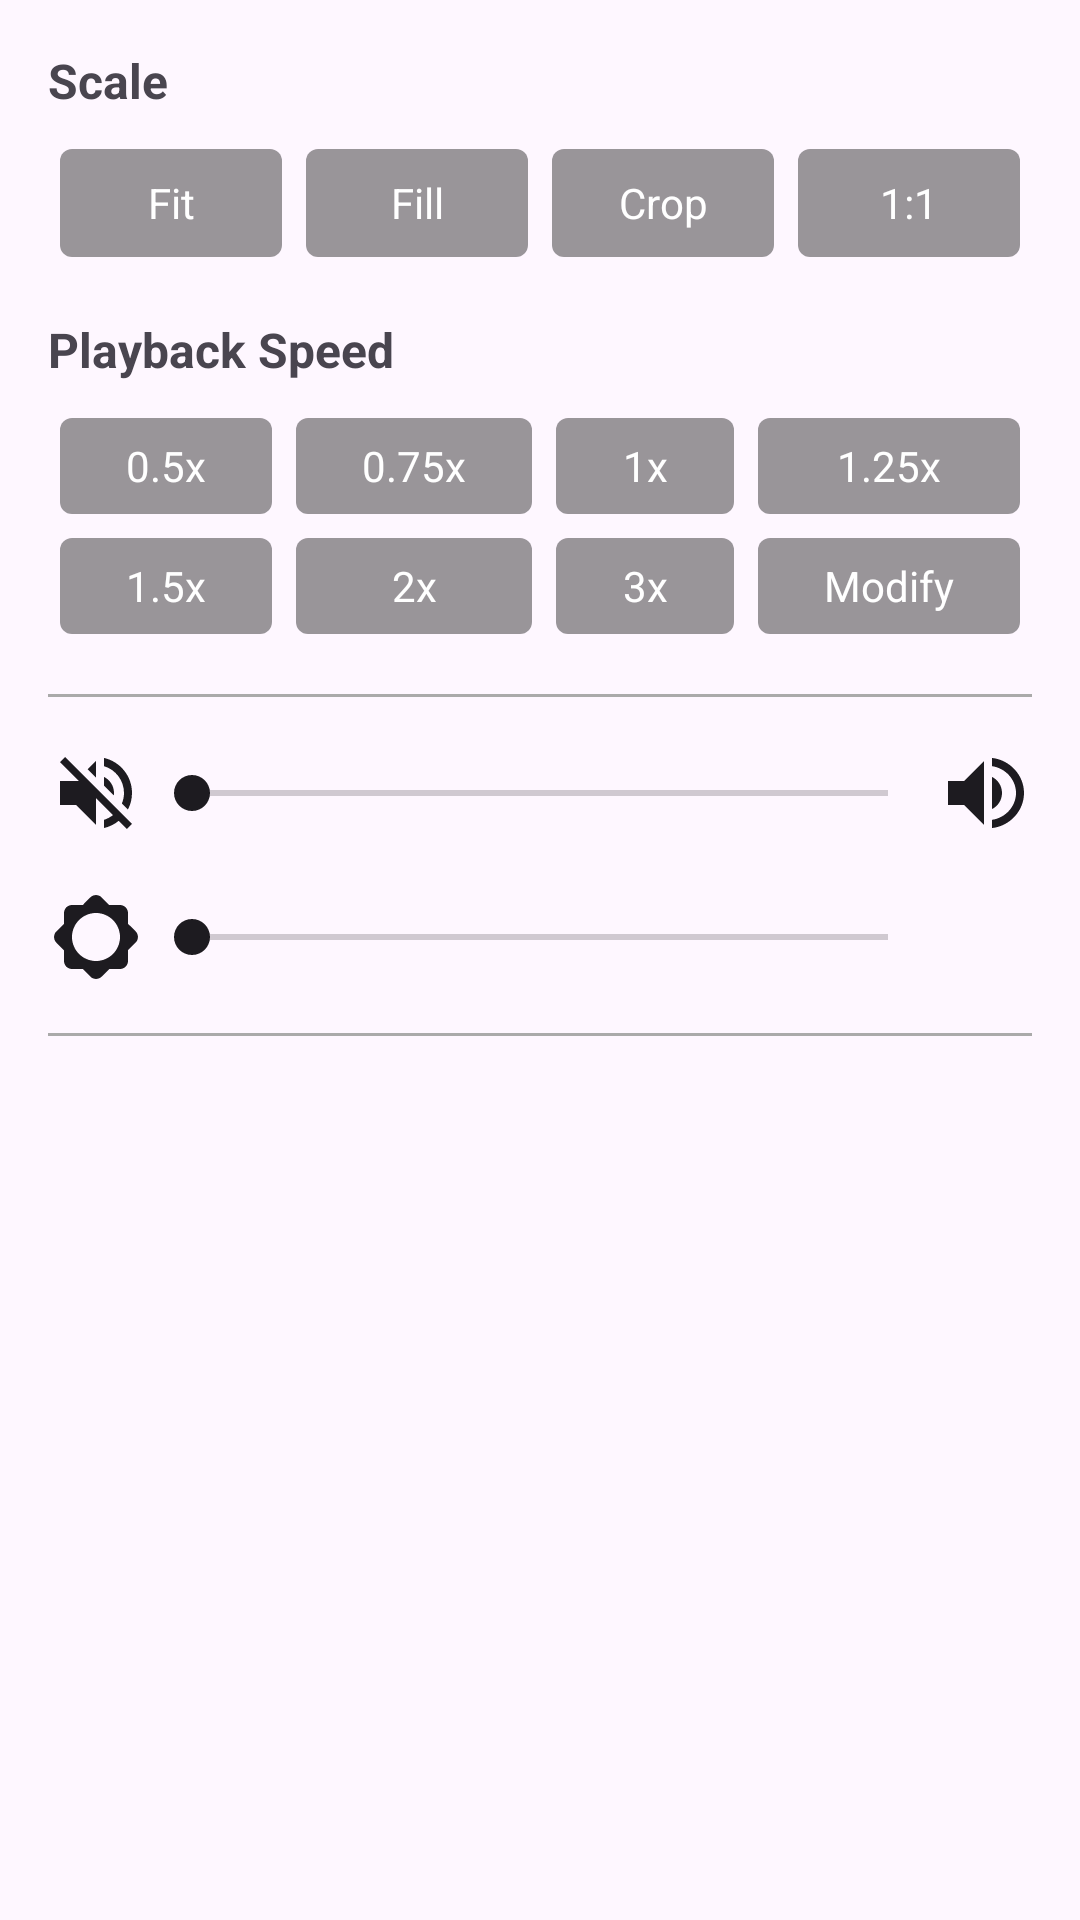

Icon bounding boxes for this 1080px x 1920px phone screenshot, format (x1, y1, x2, y2):
brightness low: (54, 895, 138, 979)
volume: (948, 758, 1024, 828)
volume off: (60, 757, 132, 829)
